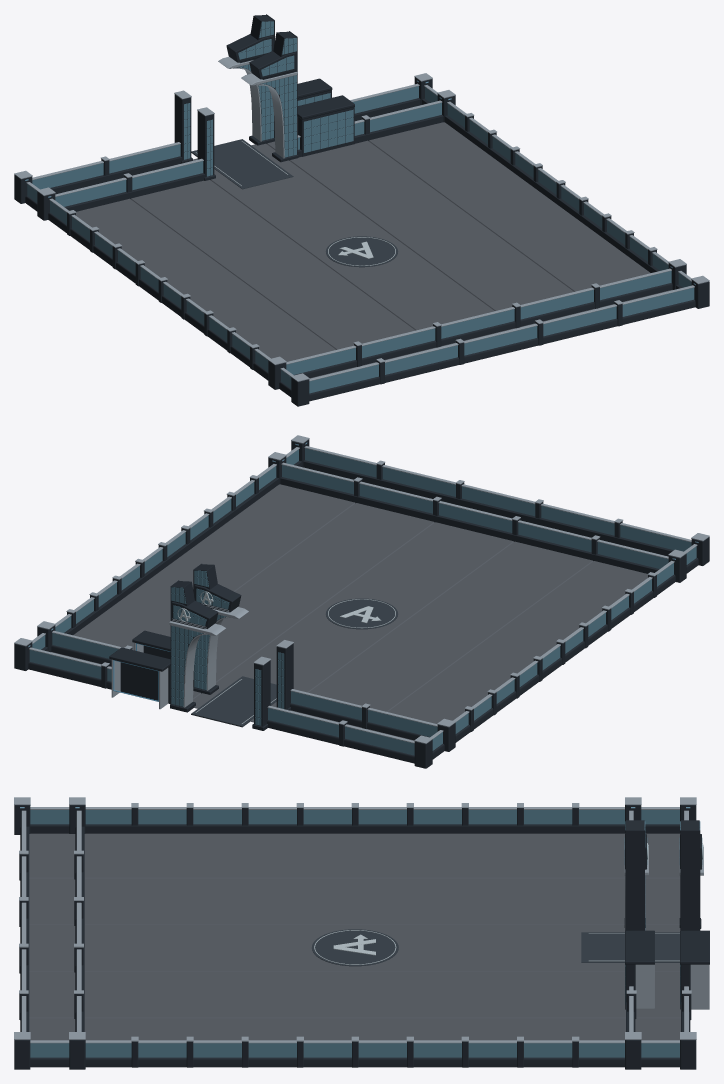
The model's file is StarkLab.fbx.
The picture shows the model from 3 angles, top to bottom: view 1: azimuth 30°, elevation 25°; view 2: azimuth 150°, elevation 25°; view 3: azimuth 270°, elevation 25°; orthographic projection. The views are drawn at different scales.
Visible parts, largest first — view 1: Deep_Floor_Base.001, Std_Floor_Base.001, Deep_Structure_Graphite.001, Deep_Structure_Glazing.001, Std_Structure_Glazing.001, Std_Structure_Graphite.001, Std_Structure_Steel.001, Deep_Structure_Steel.001, Deep_Core_3D_Graphite.001, Std_Core_3D_Graphite.001; view 2: Deep_Floor_Base.001, Std_Floor_Base.001, Deep_Structure_Graphite.001, Deep_Structure_Glazing.001, Std_Structure_Graphite.001, Std_Structure_Glazing.001, Deep_Structure_Steel.001, Std_Structure_Steel.001, Deep_Core_3D_Graphite.001, Std_Core_3D_Graphite.001, Deep_Core_3D_Silver.001; view 3: Deep_Floor_Base.001, Std_Floor_Base.001, Deep_Structure_Graphite.001, Deep_Structure_Glazing.001, Std_Structure_Graphite.001, Deep_Structure_Steel.001, Std_Structure_Steel.001, Std_Structure_Glazing.001, Deep_Core_3D_Graphite.001, Std_Core_3D_Graphite.001, Deep_Core_3D_Silver.001.
Part boxes in pixels (<box>): Deep_Floor_Base.001: <box>76,122,672,378</box>; Std_Floor_Base.001: <box>80,123,650,361</box>; Deep_Structure_Graphite.001: <box>14,14,709,406</box>; Deep_Structure_Glazing.001: <box>27,21,694,393</box>; Std_Structure_Glazing.001: <box>50,38,671,374</box>; Std_Structure_Graphite.001: <box>37,31,686,389</box>; Std_Structure_Steel.001: <box>37,72,686,364</box>; Deep_Structure_Steel.001: <box>14,57,709,381</box>; Deep_Core_3D_Graphite.001: <box>191,139,397,267</box>; Std_Core_3D_Graphite.001: <box>216,159,293,189</box>; Deep_Floor_Base.001: <box>51,484,647,740</box>; Std_Floor_Base.001: <box>75,485,626,722</box>; Deep_Structure_Graphite.001: <box>14,439,709,768</box>; Deep_Structure_Glazing.001: <box>29,448,696,755</box>; Std_Structure_Graphite.001: <box>37,456,686,751</box>; Std_Structure_Glazing.001: <box>52,465,673,736</box>; Deep_Structure_Steel.001: <box>14,435,709,743</box>; Std_Structure_Steel.001: <box>37,452,686,727</box>; Deep_Core_3D_Graphite.001: <box>191,598,397,727</box>; Std_Core_3D_Graphite.001: <box>214,676,276,706</box>; Deep_Core_3D_Silver.001: <box>177,599,395,723</box>; Deep_Floor_Base.001: <box>29,833,680,1040</box>; Std_Floor_Base.001: <box>84,833,625,1040</box>; Deep_Structure_Graphite.001: <box>14,805,709,1069</box>; Deep_Structure_Glazing.001: <box>30,810,702,1057</box>; Std_Structure_Graphite.001: <box>69,805,654,1069</box>; Deep_Structure_Steel.001: <box>14,797,709,1043</box>; Std_Structure_Steel.001: <box>69,797,654,1043</box>; Std_Structure_Glazing.001: <box>85,810,647,1057</box>; Deep_Core_3D_Graphite.001: <box>311,929,679,966</box>; Std_Core_3D_Graphite.001: <box>581,932,624,962</box>; Deep_Core_3D_Silver.001: <box>314,843,703,964</box>.
Bounding box in the file's own units: 54.59 × 15.68 × 66.36.
